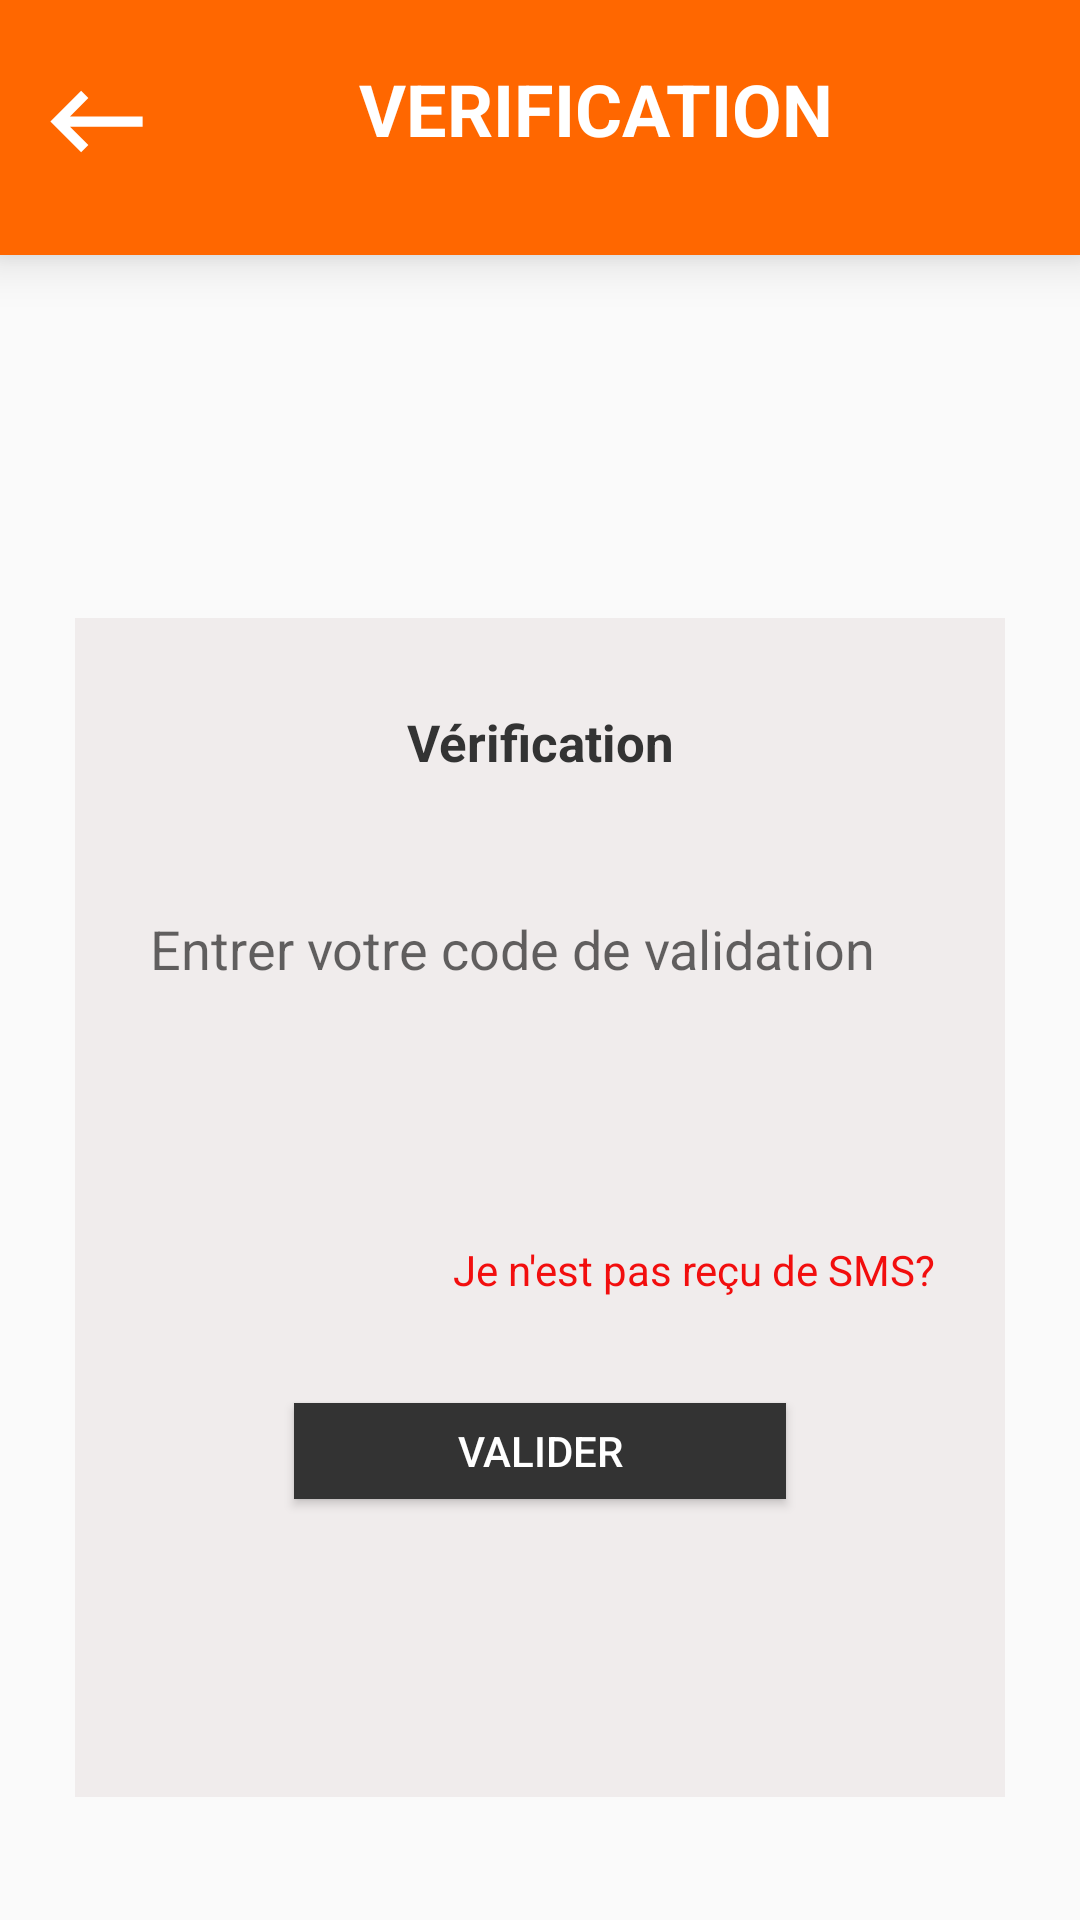

Where to tap for icons on this 1080x1920 app screen, as (x=x, y=y):
keyboard backspace: (x=96, y=121)
